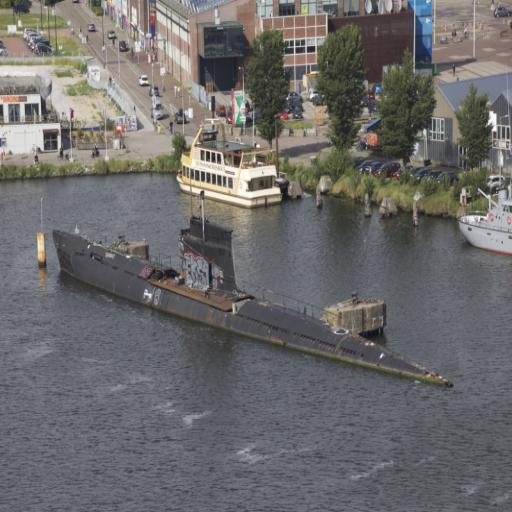submarine: (42, 216, 455, 388)
